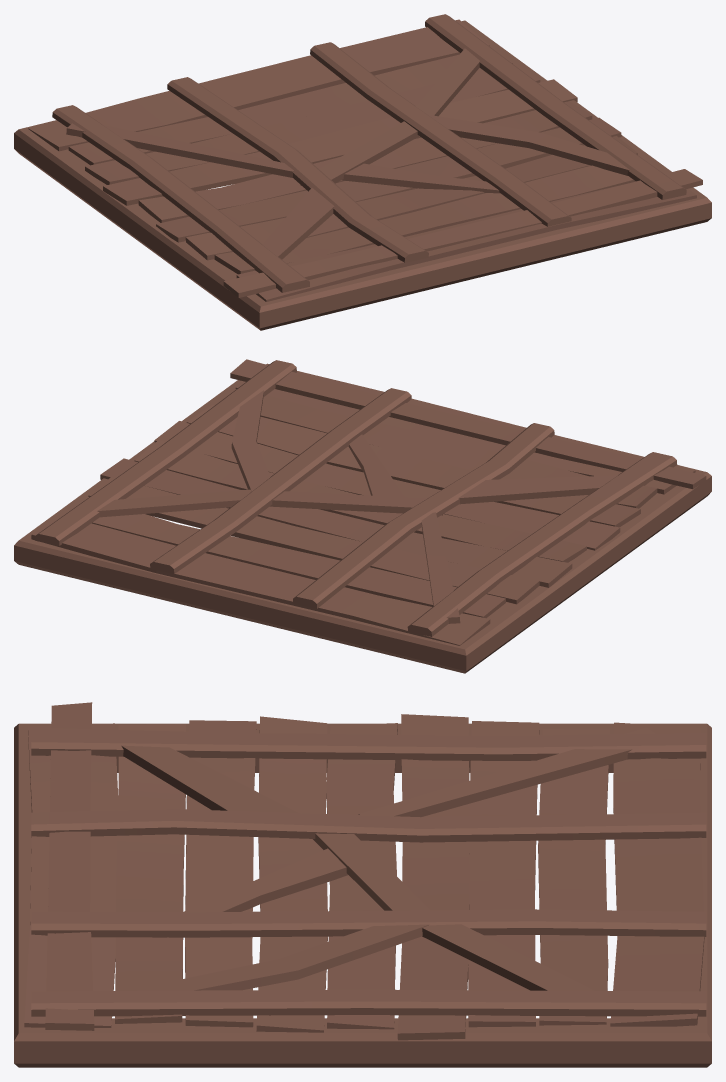
File: StandardWoodenRoof05.fbx
3 renders of one model, top to bottom at view 1: azimuth 30°, elevation 25°; view 2: azimuth 150°, elevation 25°; view 3: azimuth 270°, elevation 25°, orthographic. The views are drawn at different scales.
Visible parts, largest first — view 1: standard_wooden_roof_5_LOD0; view 2: standard_wooden_roof_5_LOD0; view 3: standard_wooden_roof_5_LOD0.
Boxes of the visible parts, <box> form: standard_wooden_roof_5_LOD0: <box>14,14,711,330</box>; standard_wooden_roof_5_LOD0: <box>14,359,711,673</box>; standard_wooden_roof_5_LOD0: <box>14,702,711,1067</box>.
Size of what is drawn, in the model's own units: 601 by 44.54 by 552.
